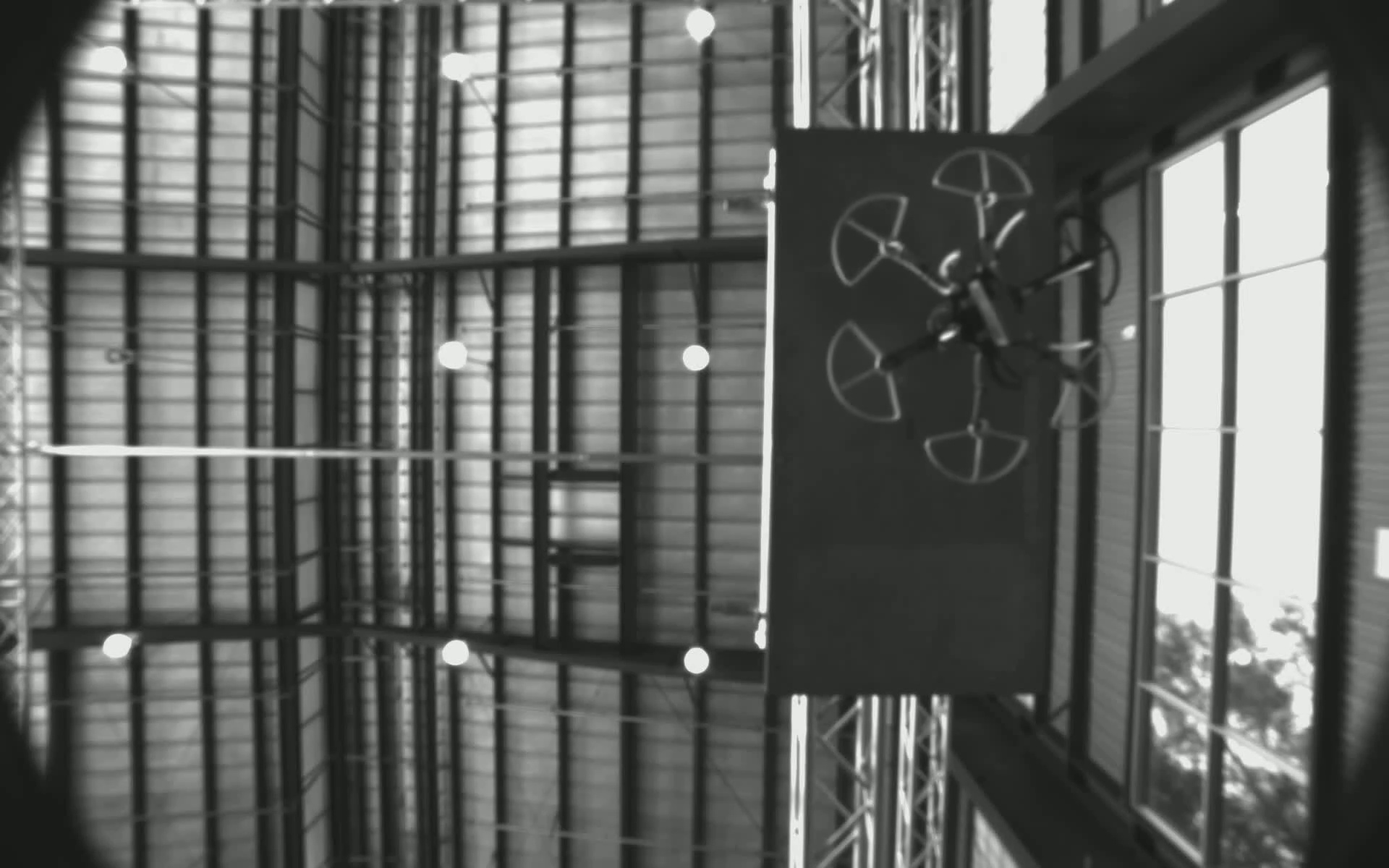drone: (825, 141, 1130, 493)
